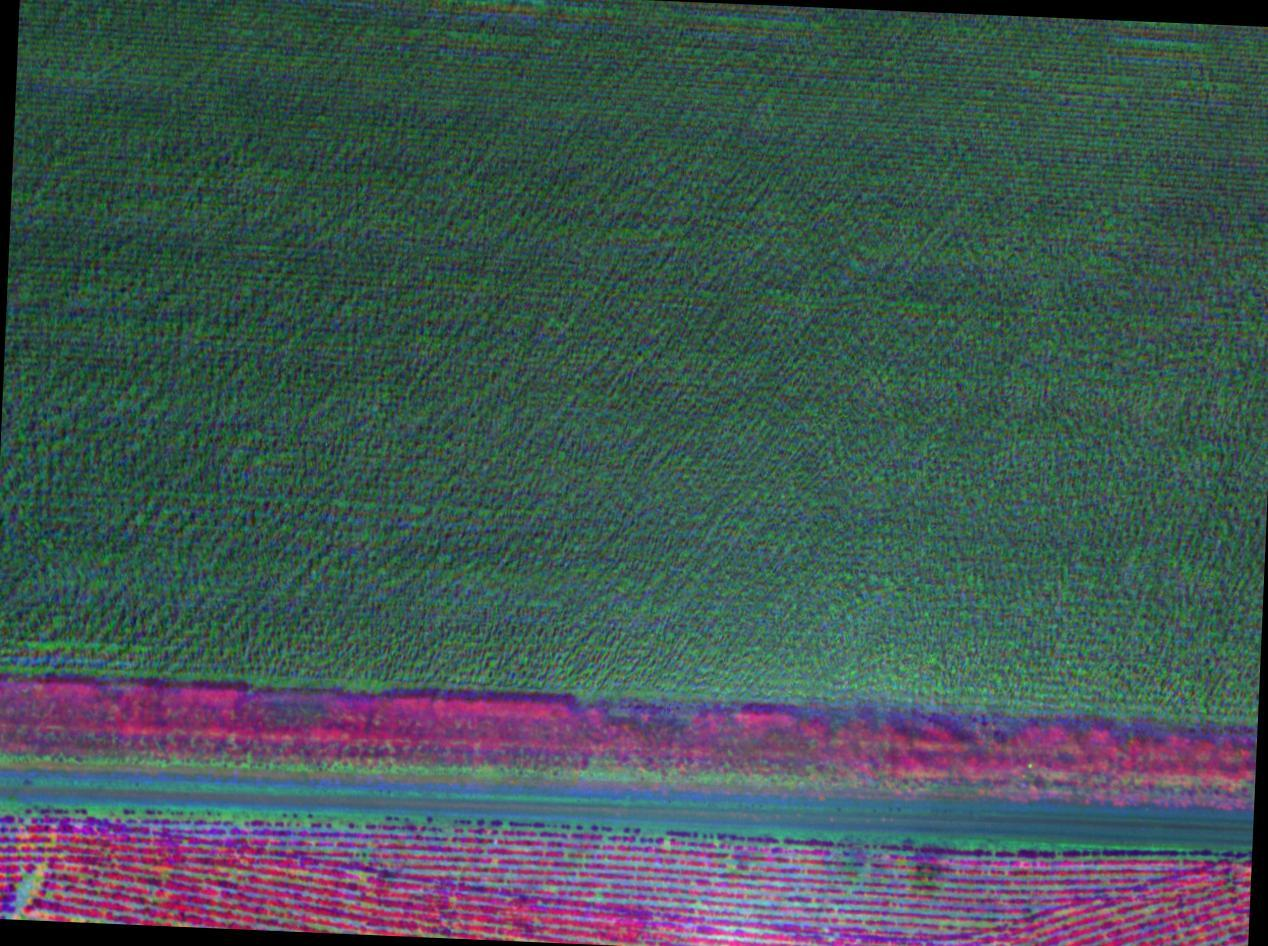dc: (0, 823, 101, 920), (880, 830, 974, 918)
